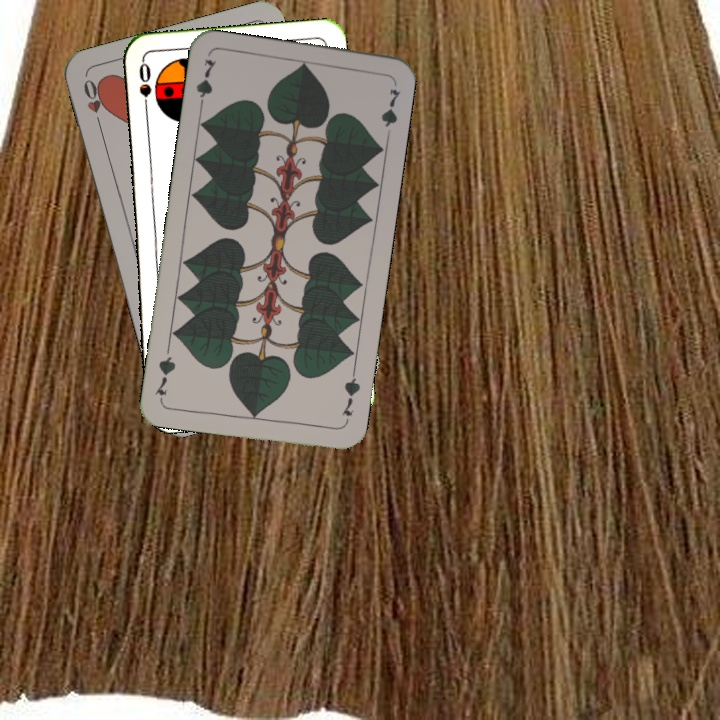G7: (192, 55, 219, 113), (338, 368, 363, 419)
HO: (79, 75, 108, 132)
SO: (134, 58, 154, 117)
